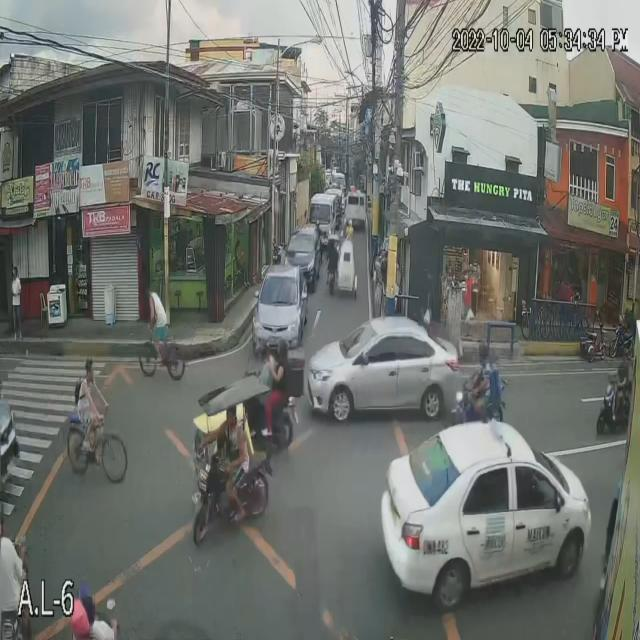half: (256, 340, 269, 362)
not_wearing: (276, 340, 286, 361)
